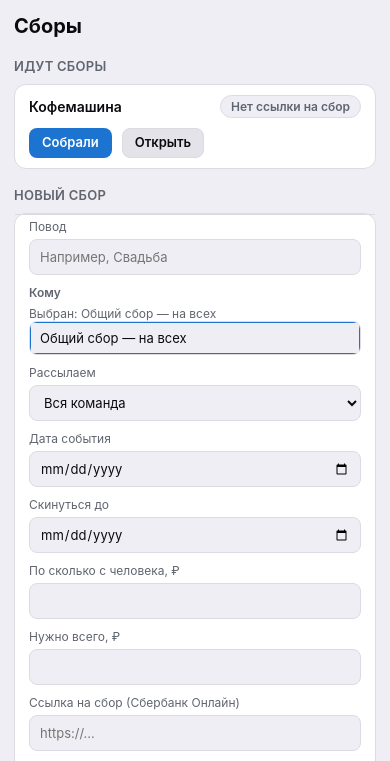
«Рассылаем» у сборов (консоль) › разосланный сбор — текст «Рассылали: …» без выбора
The image size is (390, 761).
Click the button "Открыть": (163,143) [122,128,204,158]
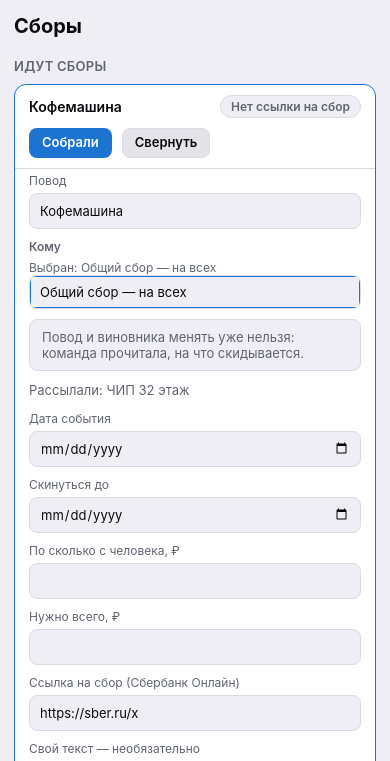
Expected: the text "Рассылали: ЧИП 32 этаж" is shown, [29,382,190,398]
